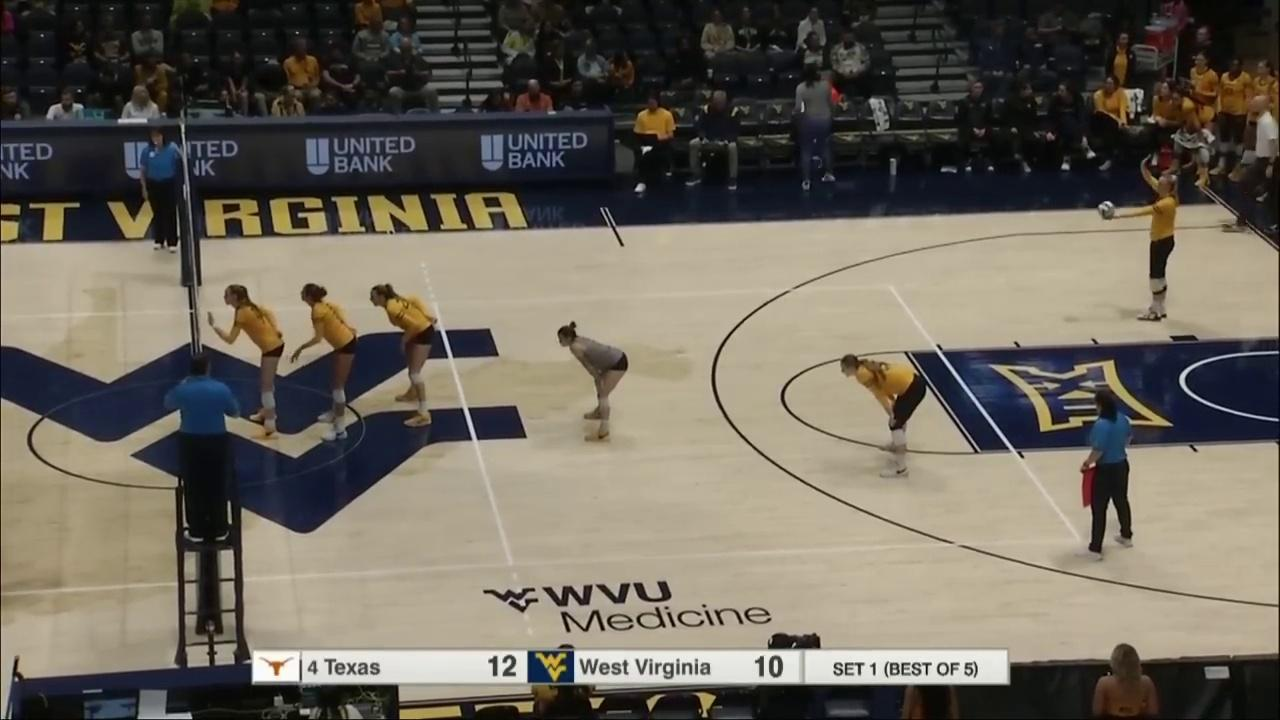player: (842, 351, 928, 481), (369, 283, 436, 428), (223, 282, 283, 442), (556, 325, 632, 445), (1121, 173, 1182, 322), (299, 285, 357, 438)
refree: (173, 359, 234, 542), (1082, 393, 1136, 552), (141, 130, 184, 252)
